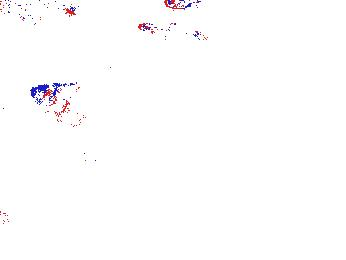X-ray fish: (30, 79, 96, 132), (58, 150, 109, 191)
red belly glassfish: (163, 1, 209, 10)
redtail glassfish: (1, 1, 83, 31), (135, 21, 211, 49)
